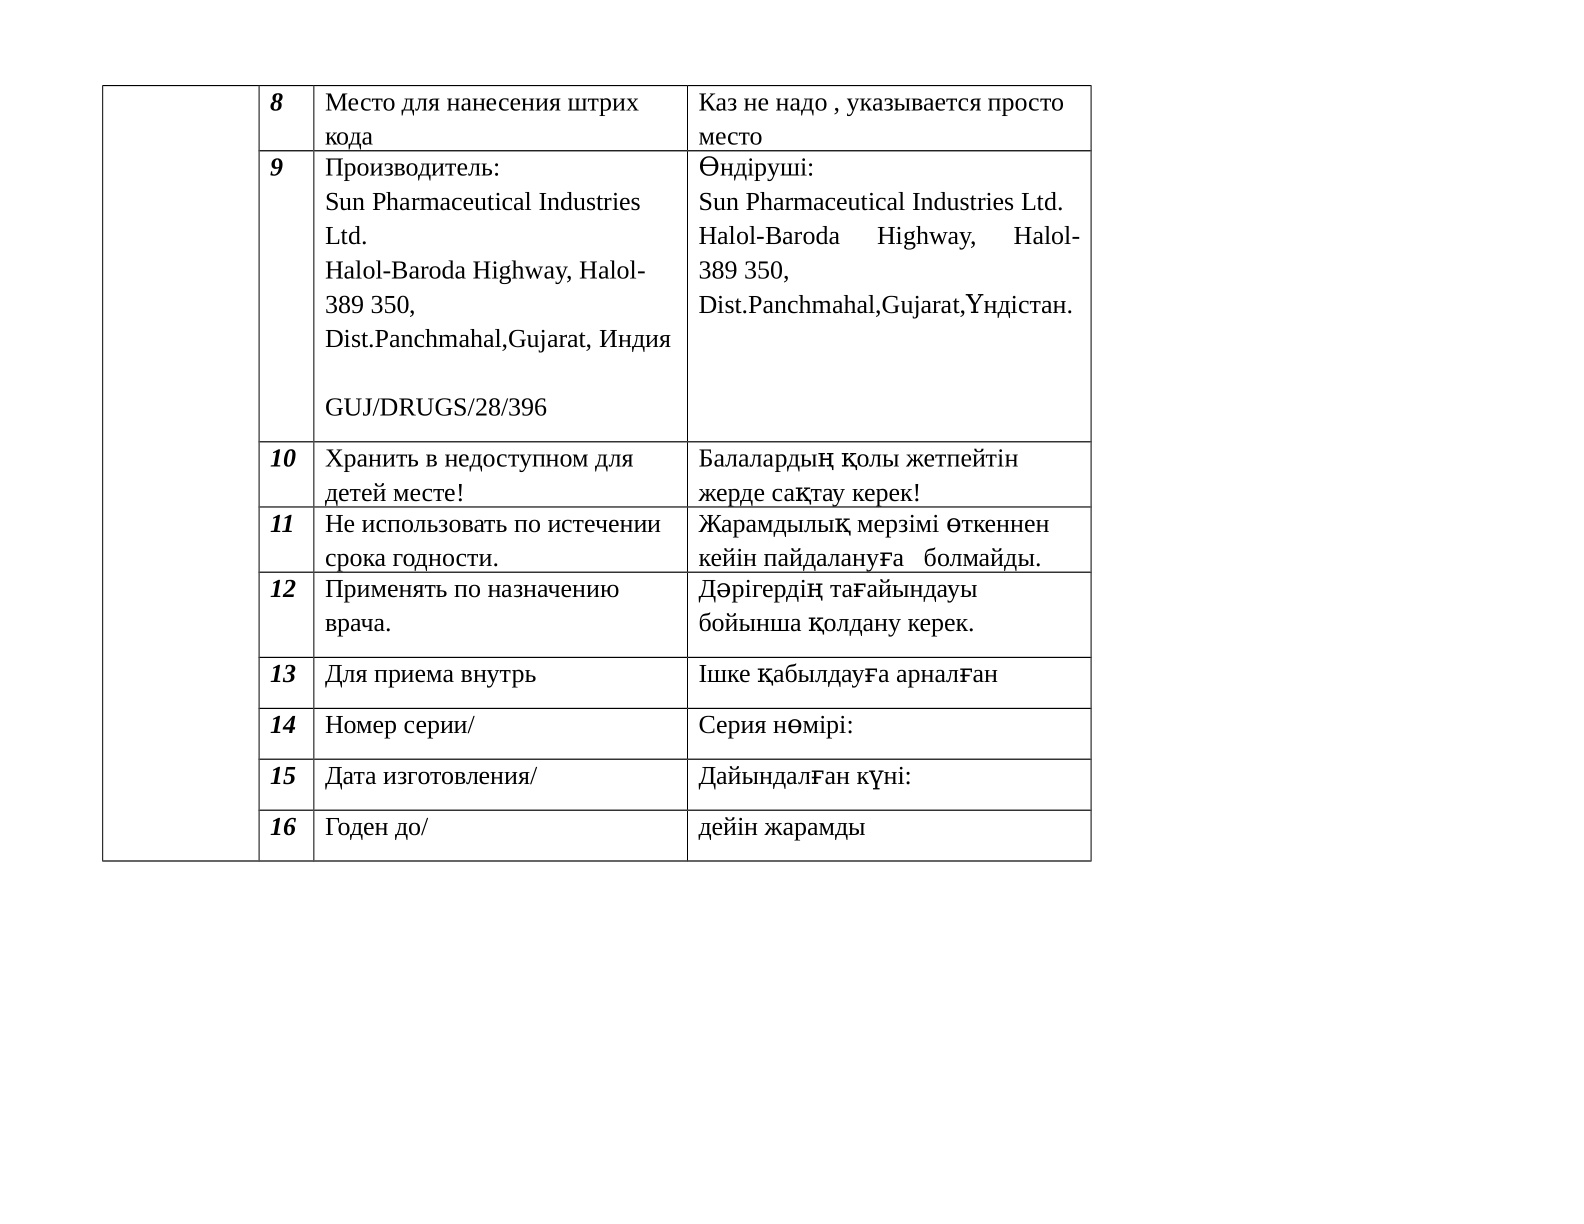merged_cells: (102, 84, 1093, 861)
